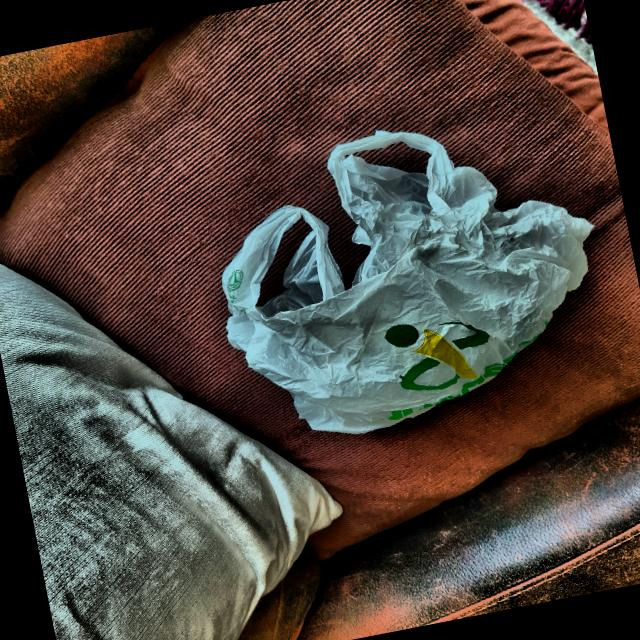plastic bag: (213, 99, 632, 452)
